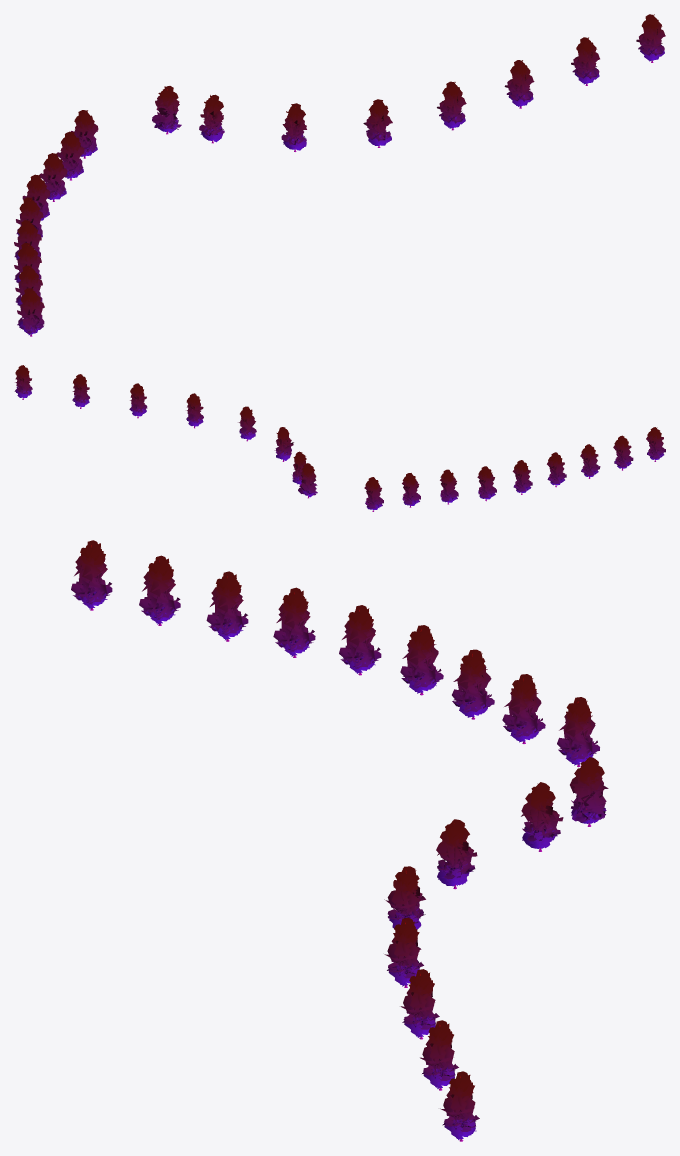
Rendered from Treeroad.fbx.
3 views of the same model, one above another, from view 1: azimuth 30°, elevation 25°; view 2: azimuth 150°, elevation 25°; view 3: azimuth 270°, elevation 25° (orthographic). The views are drawn at different scales.
Parts seen in each view (by area): view 1: Tree3; view 2: Tree3; view 3: Tree3.
Part boxes in pixels (box(x1,y1,x2,y2)): Tree3: box(14, 14, 665, 336); Tree3: box(14, 365, 665, 511); Tree3: box(71, 540, 608, 1141).
Size of the model in its own units: 19877 by 1247 by 8319.
